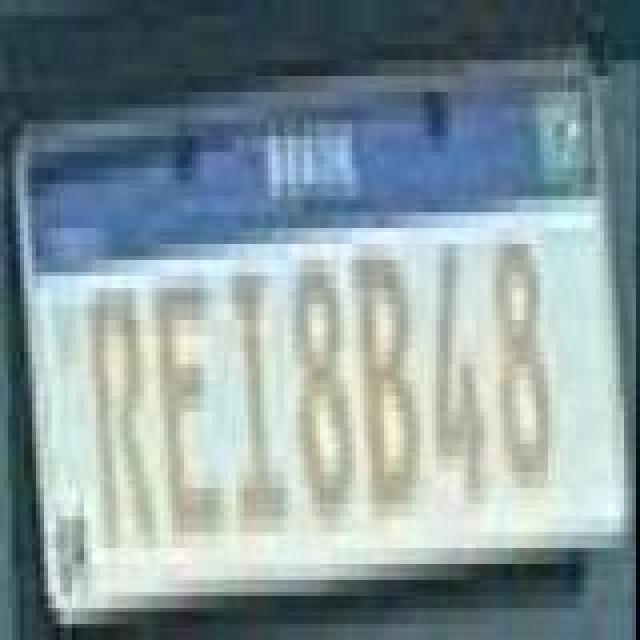4: (432, 240, 492, 512)
8: (294, 258, 358, 534), (494, 238, 558, 498)
B: (354, 250, 426, 510)
E: (152, 282, 228, 542)
I: (226, 266, 298, 542)
R: (88, 282, 164, 558)
